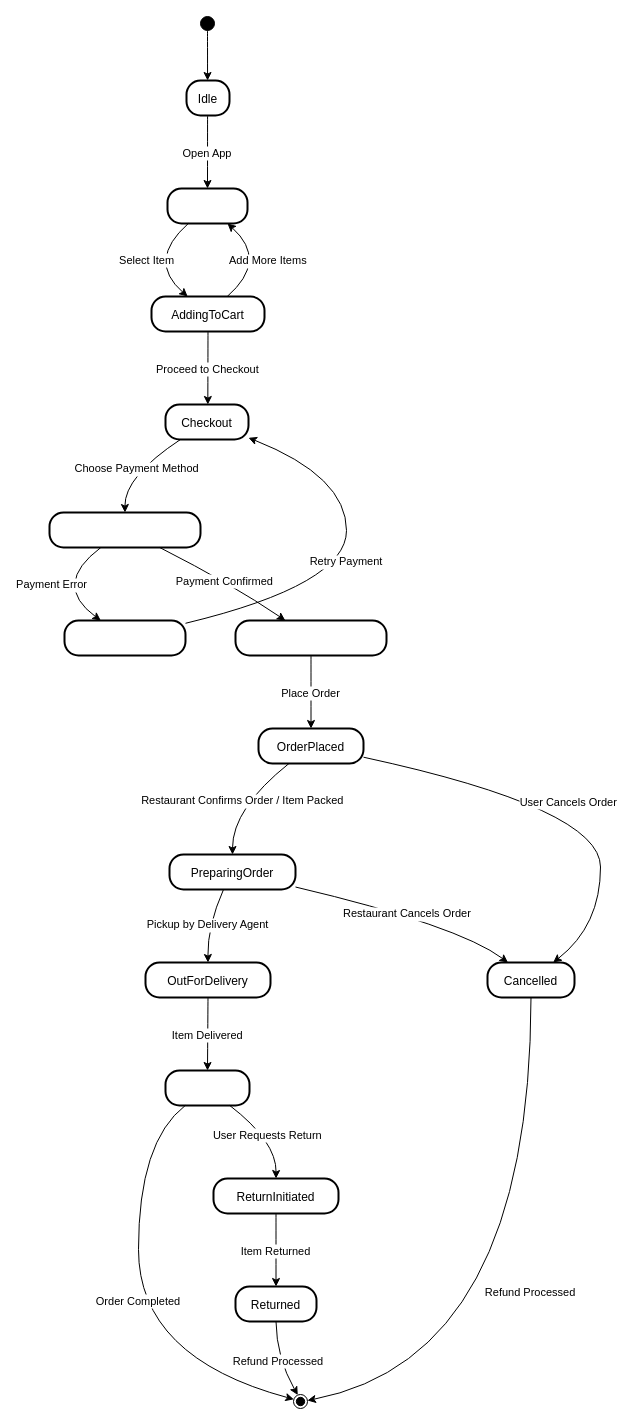
Some shapes in this 635 by 1425 pixel diagram are drawn without their labels. The shapes that lost their labels are listed below. From the top down, each one's box as (x1, y1, x2, y2) in pixels, then its label:
(166, 187, 248, 224): Browsing
(48, 511, 201, 548): PaymentProcessing
(63, 619, 186, 656): PaymentFailed
(234, 619, 387, 656): PaymentSuccessful
(164, 1069, 250, 1106): Delivered
